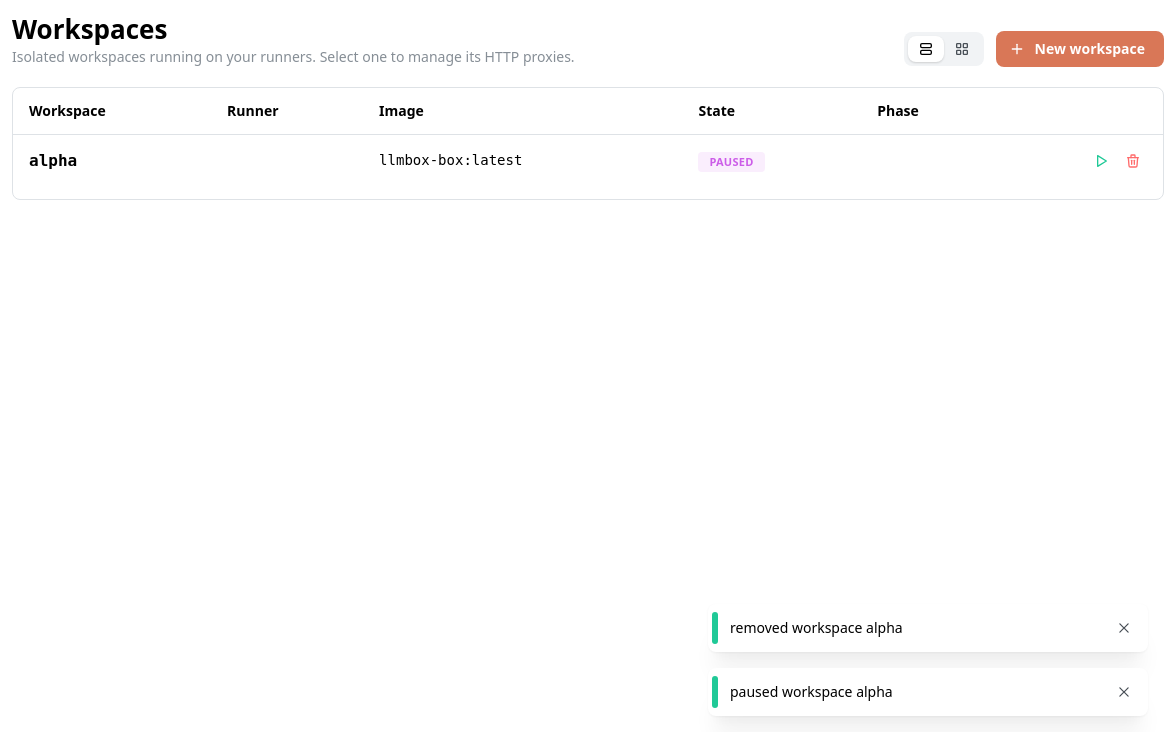
WorkspacesView › shows Resume (not Pause) for a paused workspace and resumes it
Click the button named "Resume alpha" at [1101, 161], box [1087,147,1115,175]
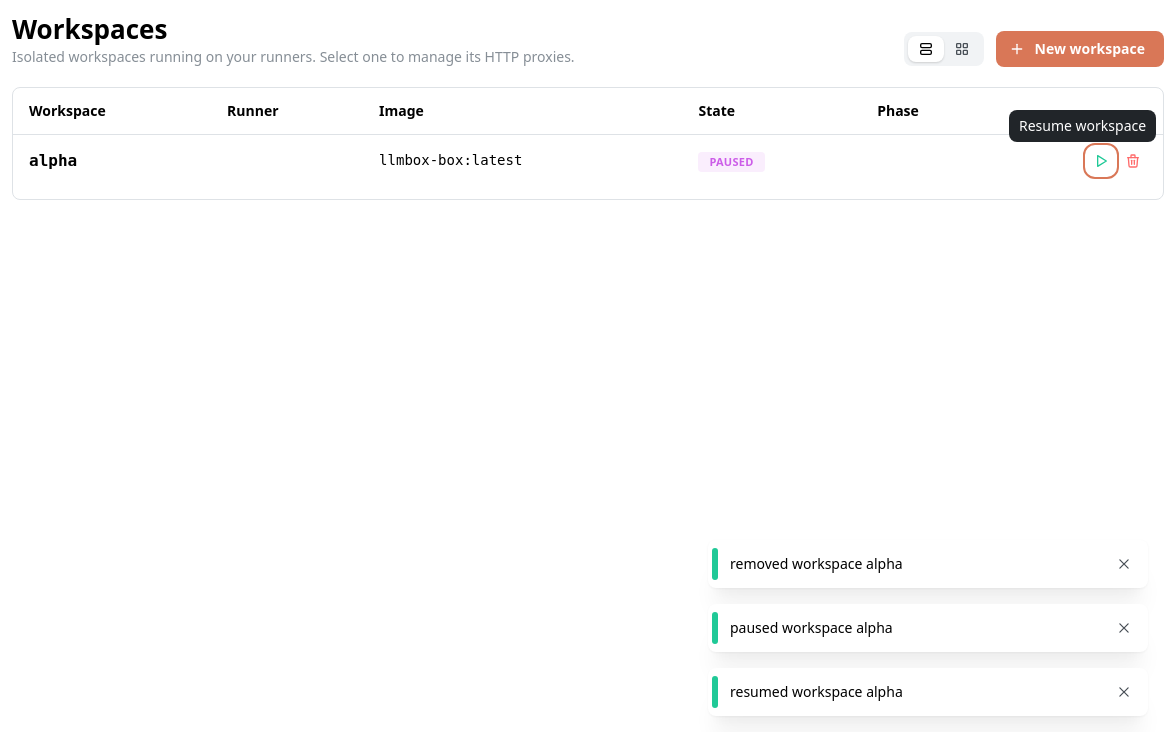
Result: the text "resumed workspace alpha" is shown at [730,682,903,701]
